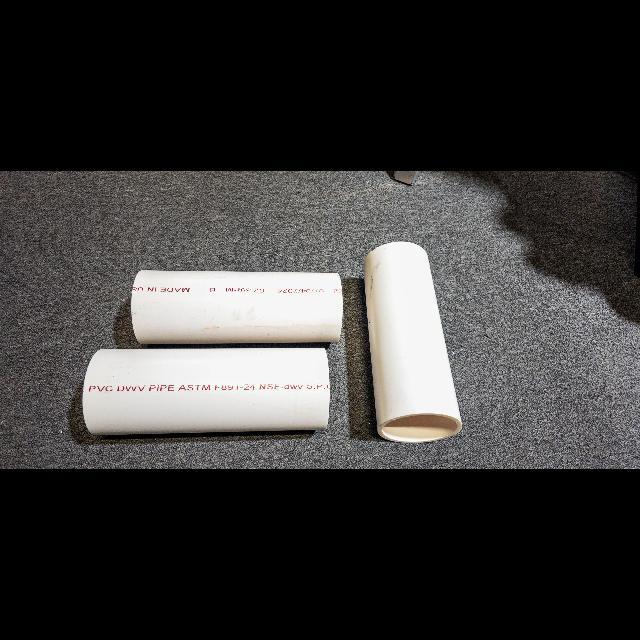CORAL: (83, 349, 331, 437), (364, 241, 462, 445), (132, 272, 344, 344)
